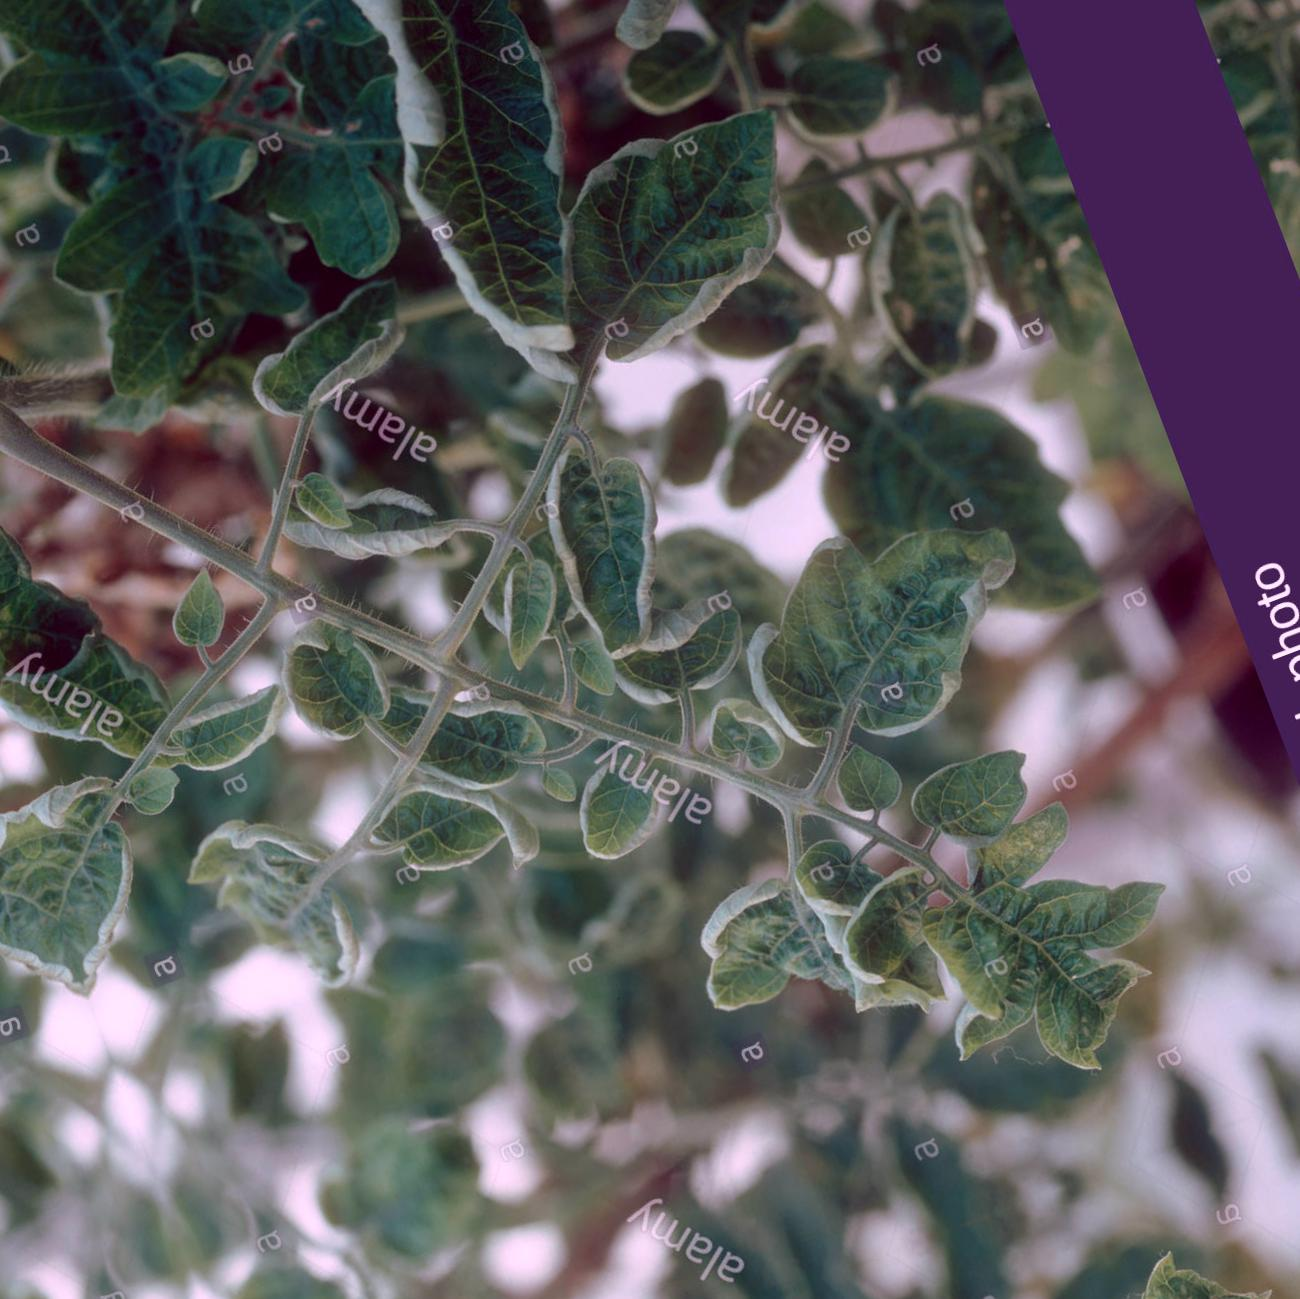Tomato leaf yellow virus: (301, 0, 720, 440), (859, 798, 1226, 1159), (704, 457, 1089, 793), (509, 100, 835, 389), (640, 783, 919, 1078), (151, 779, 434, 1024), (307, 582, 574, 833), (508, 390, 729, 677), (214, 265, 461, 491), (521, 685, 708, 968)
